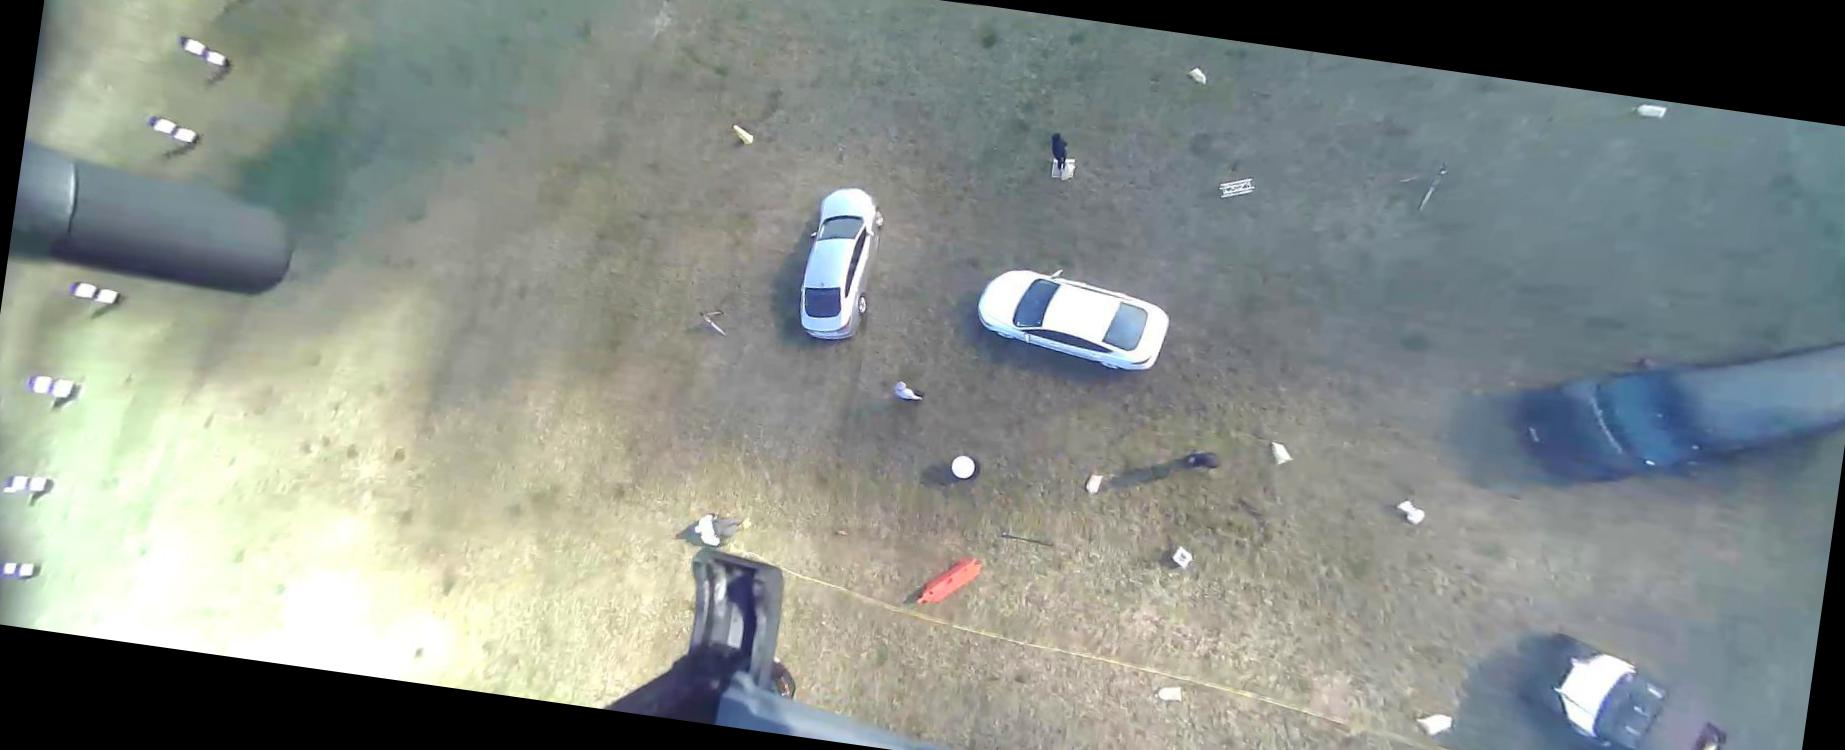vehicle: (1505, 293, 1844, 522), (1505, 626, 1740, 749), (967, 255, 1179, 376), (792, 182, 890, 347)
